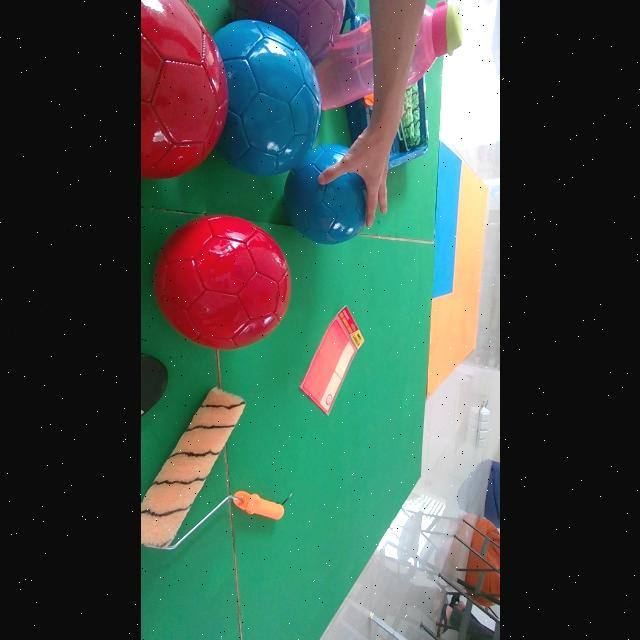B: (214, 19, 321, 176), (284, 144, 365, 244)
P: (237, 0, 345, 65)
R: (155, 216, 291, 350), (141, 0, 227, 179)
